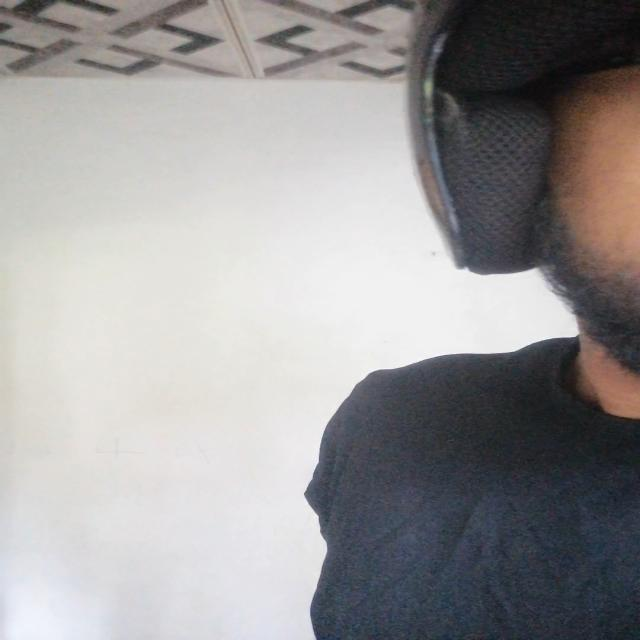Helmet_Wearer: (386, 0, 640, 441)
Person: (299, 2, 640, 640)
